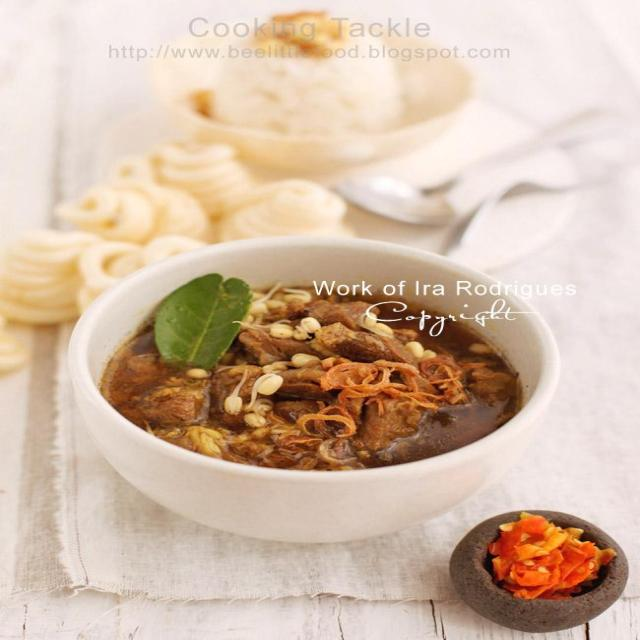Rawon: (111, 276, 504, 455)
